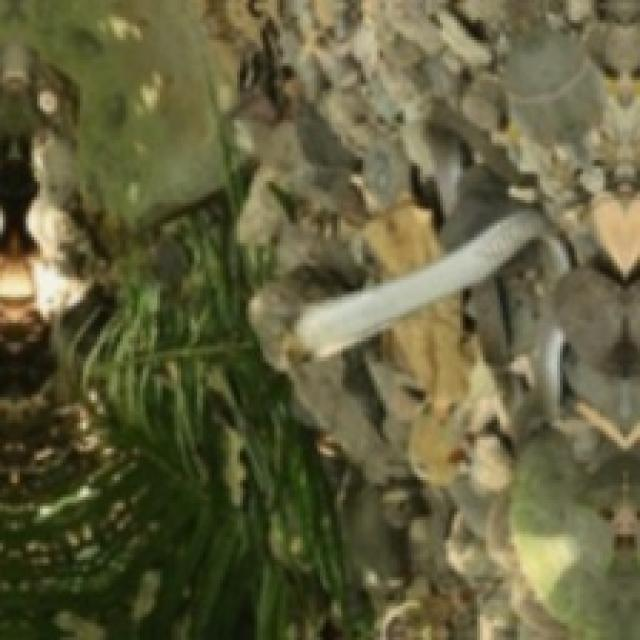king cobra: (277, 0, 637, 637)
